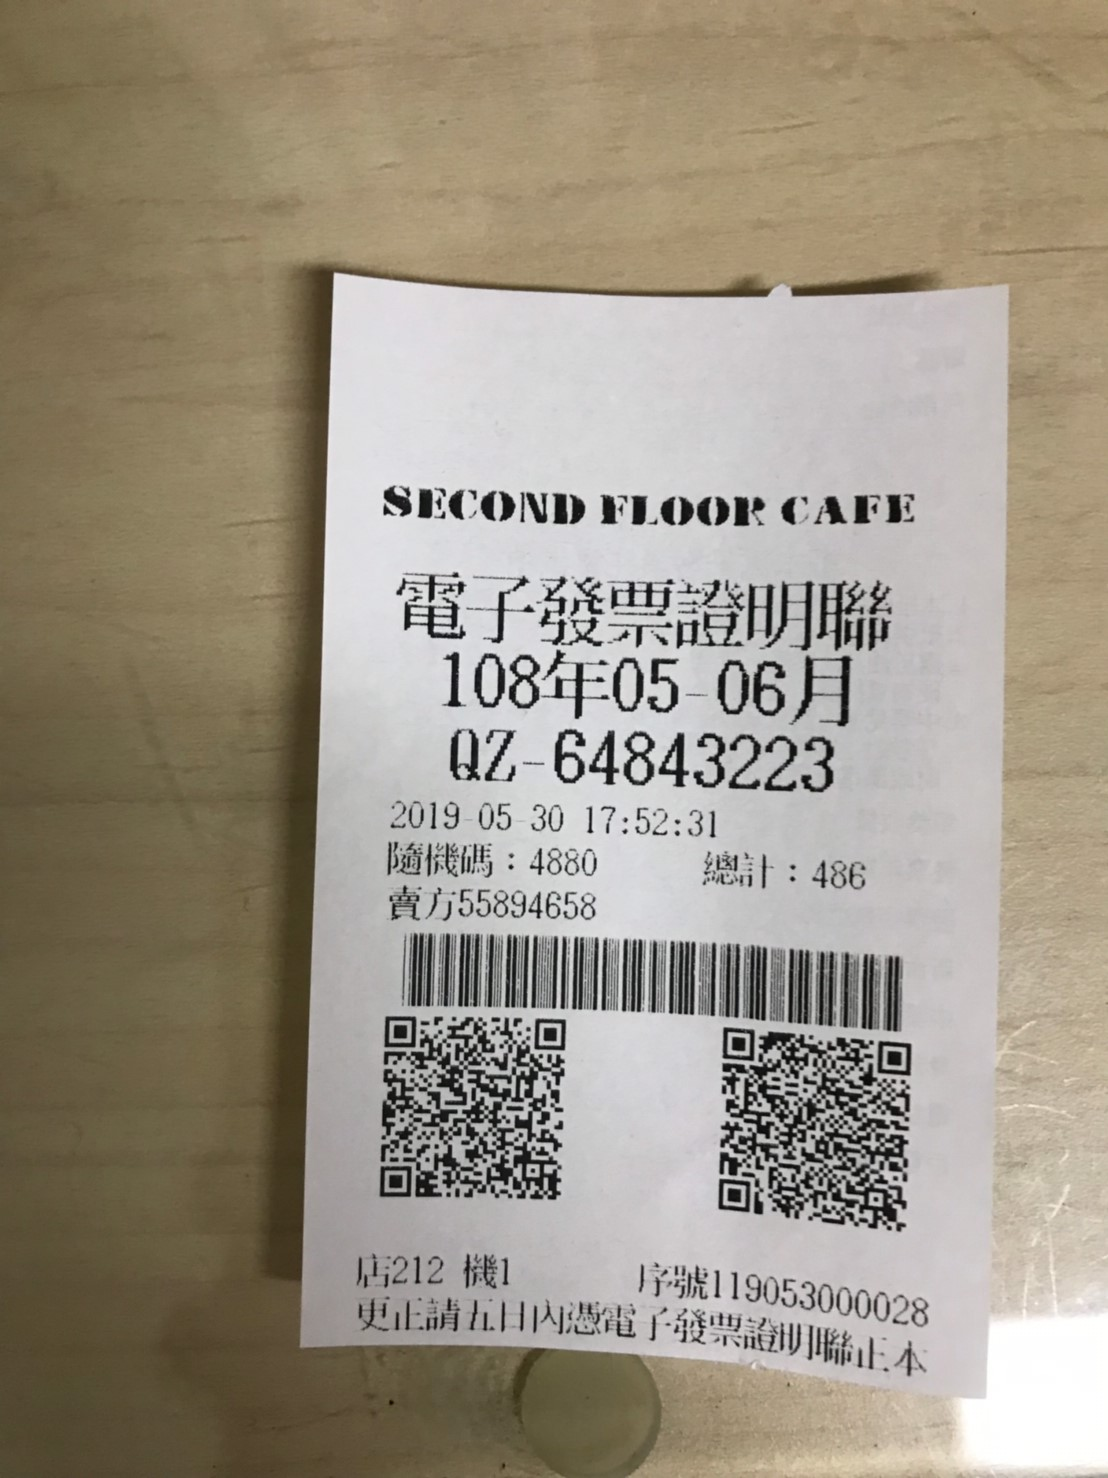Date_New: (439, 649, 859, 725)
Number_New: (545, 725, 841, 794)
